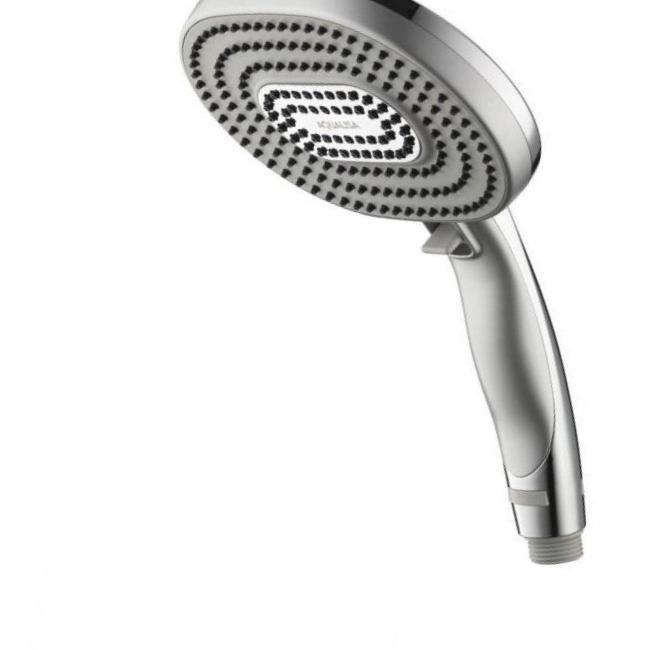Ducha: (161, 0, 610, 579)
